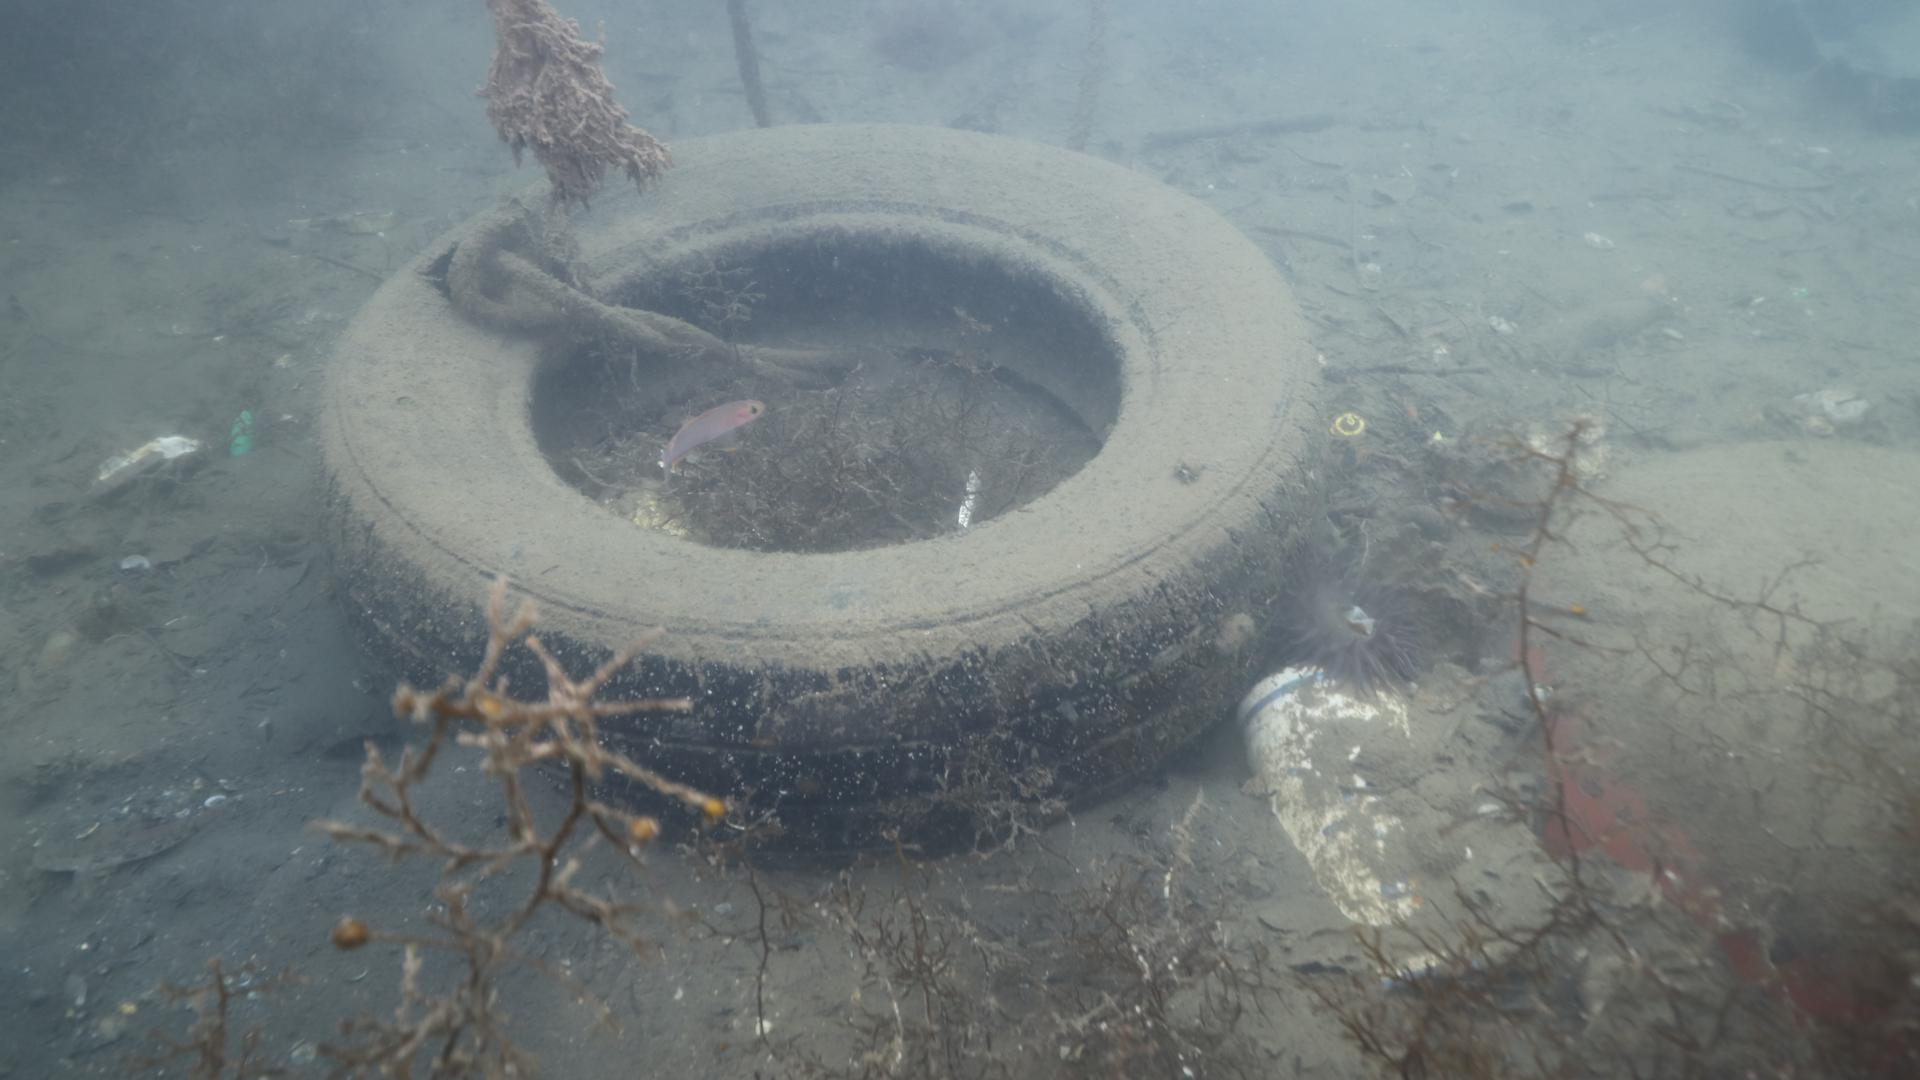bundle of ropes: (438, 193, 857, 382)
tire: (316, 112, 1331, 844)
